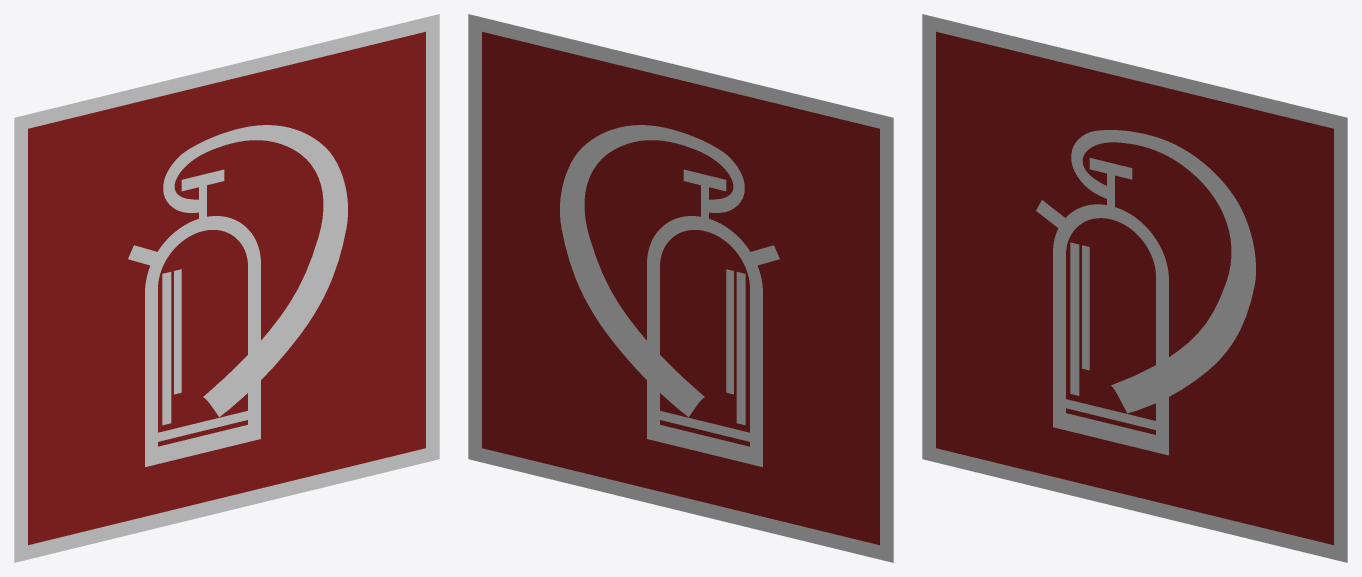
File: fire_sign.glb
3 renders of one model, left to right at view 1: azimuth 30°, elevation 25°; view 2: azimuth 150°, elevation 25°; view 3: azimuth 330°, elevation 25°, orthographic.
Parts seen in each view (by area): view 1: fire_sign; view 2: fire_sign; view 3: fire_sign.
Boxes of the visible parts, x1,y1,x2,y2 form: fire_sign: (14, 14, 439, 562); fire_sign: (468, 14, 893, 562); fire_sign: (922, 14, 1347, 562).
Bounding box in the file's own units: 0.4017 × 0.4017 × 3.62e-06.
